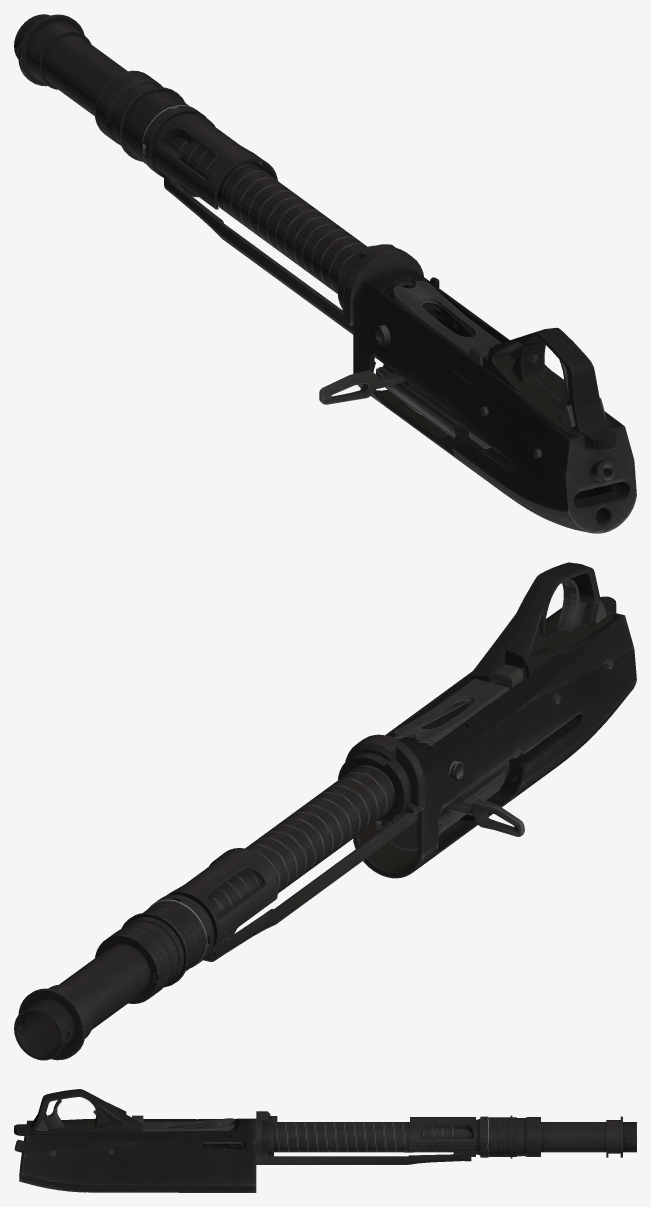
The picture shows the model from 3 angles, top to bottom: view 1: azimuth 30°, elevation 25°; view 2: azimuth 150°, elevation 25°; view 3: azimuth 270°, elevation 25°; orthographic projection. The views are drawn at different scales.
Visible parts, largest first — view 1: TW_606dae0ab0e443224b421bb7_PZ_Import; view 2: TW_606dae0ab0e443224b421bb7_PZ_Import; view 3: TW_606dae0ab0e443224b421bb7_PZ_Import.
Boxes of the visible parts, x1,y1,x2,y2 form: TW_606dae0ab0e443224b421bb7_PZ_Import: (14,14,636,533); TW_606dae0ab0e443224b421bb7_PZ_Import: (14,562,636,1060); TW_606dae0ab0e443224b421bb7_PZ_Import: (14,1089,636,1192).
Size of the model in its own units: 0.0446 by 0.3064 by 0.054.
1 material, 1 textured.
